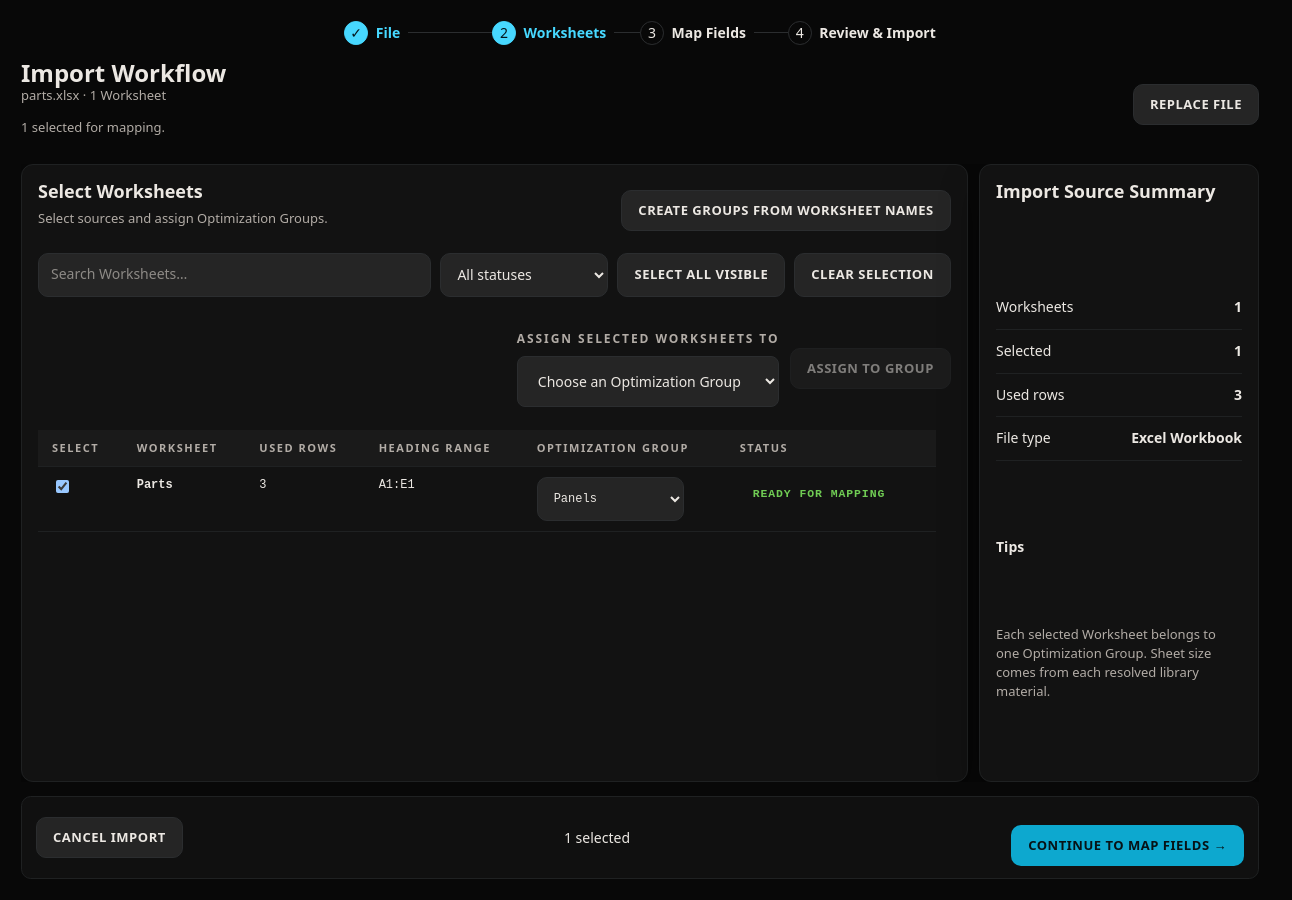
Scenario: Sheet Project Import Workflow › uses the stepped workflow without a Stock Length or separate sheet-size input
Check: the heading "Select Worksheets" is shown, box [38,179,203,203]
Click the button "Continue to Map Fields →" at (1128, 846), box [1011,825,1244,866]
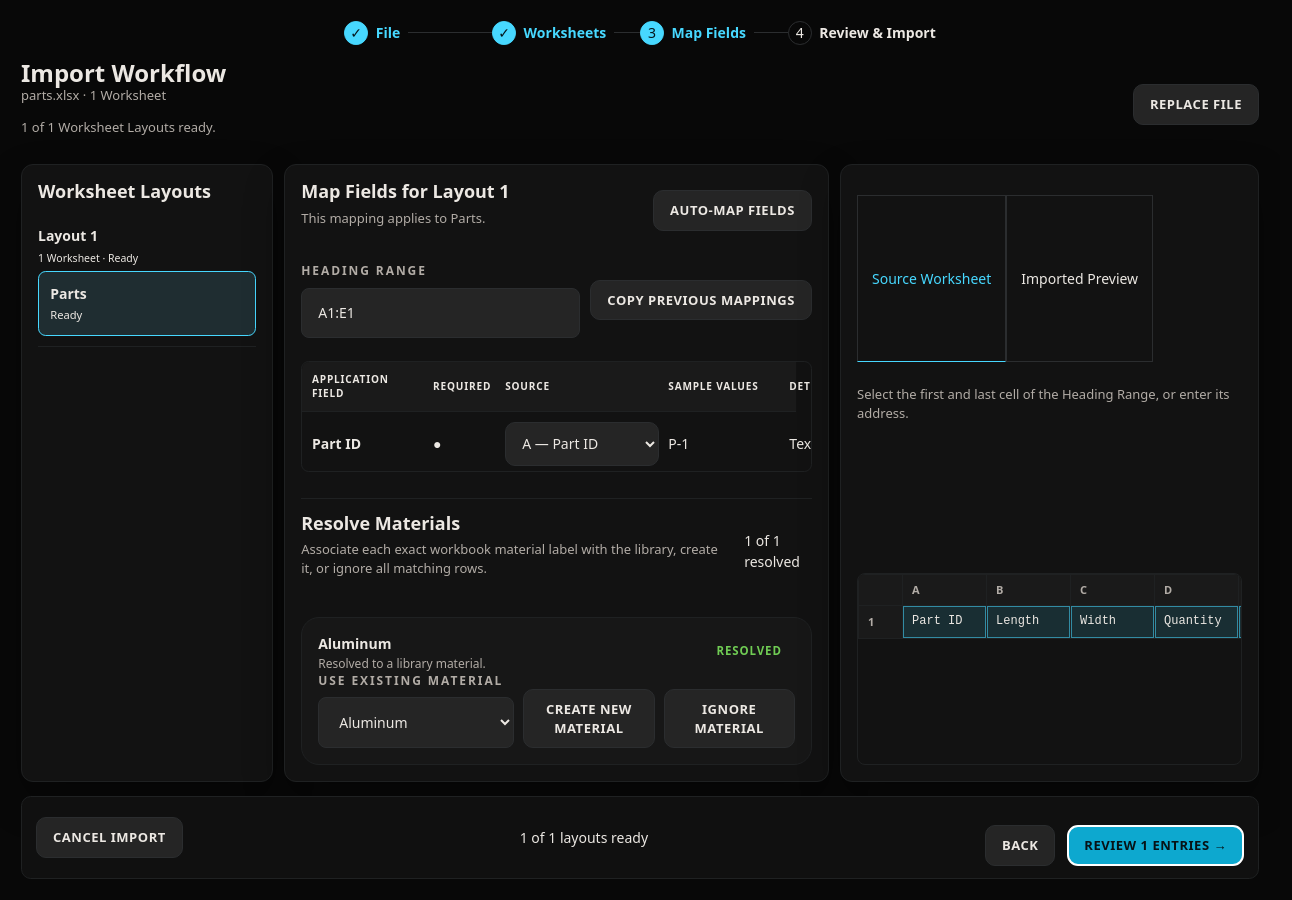
Check: the heading "Map Fields for Layout 1" is shown, box [301,181,510,203]
Check: the heading "Resolve Materials" is shown, box [301,510,460,534]
Check: the text "1 of 1 resolved" is shown, box [744,531,800,571]
